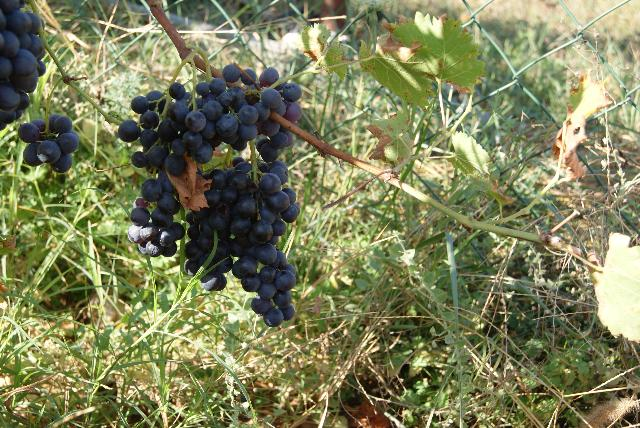grapes: (118, 65, 300, 170), (232, 165, 300, 328), (185, 169, 250, 291), (18, 115, 79, 174), (141, 180, 179, 249)
